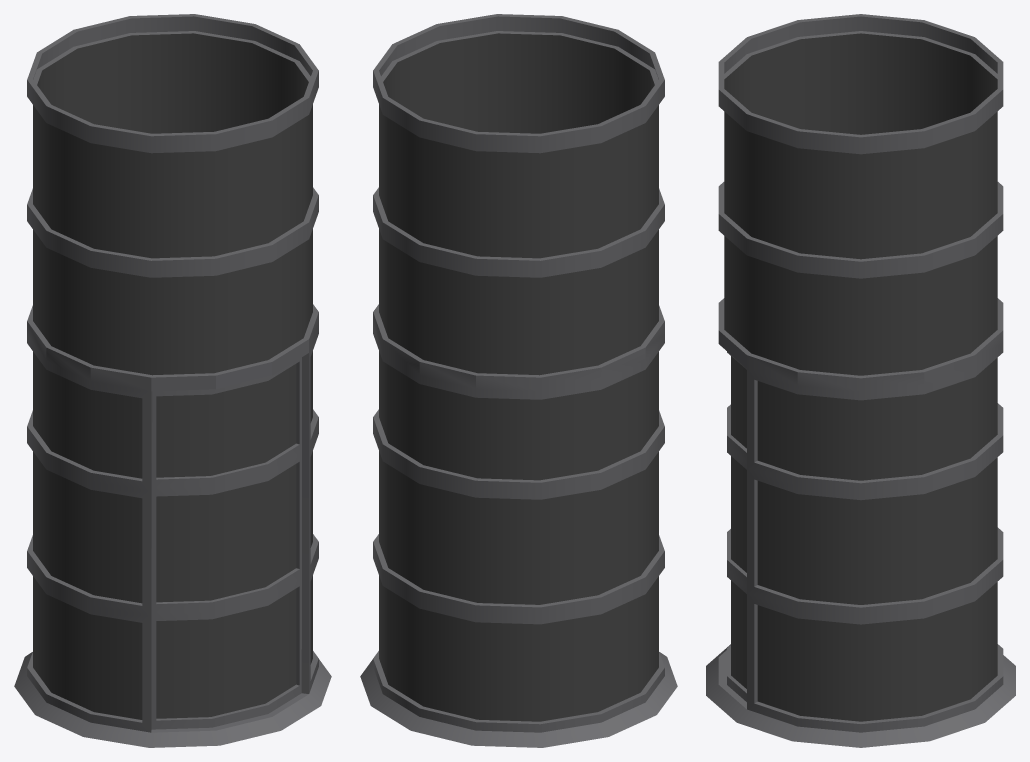
File: BottomElevatorTube_01.fbx
3 views of the same model, side by side, from view 1: azimuth 30°, elevation 25°; view 2: azimuth 150°, elevation 25°; view 3: azimuth 270°, elevation 25° (orthographic).
Parts seen in each view (by area): view 1: Tube, Door; view 2: Tube; view 3: Tube, Door.
Part boxes in pixels (x1,y1,x2,y2): Tube: (14, 14, 331, 747); Door: (151, 357, 301, 729); Tube: (360, 14, 677, 747); Tube: (706, 14, 1015, 747); Door: (727, 351, 746, 701).
Bounding box in the file's own units: 850 × 1786 × 829.
